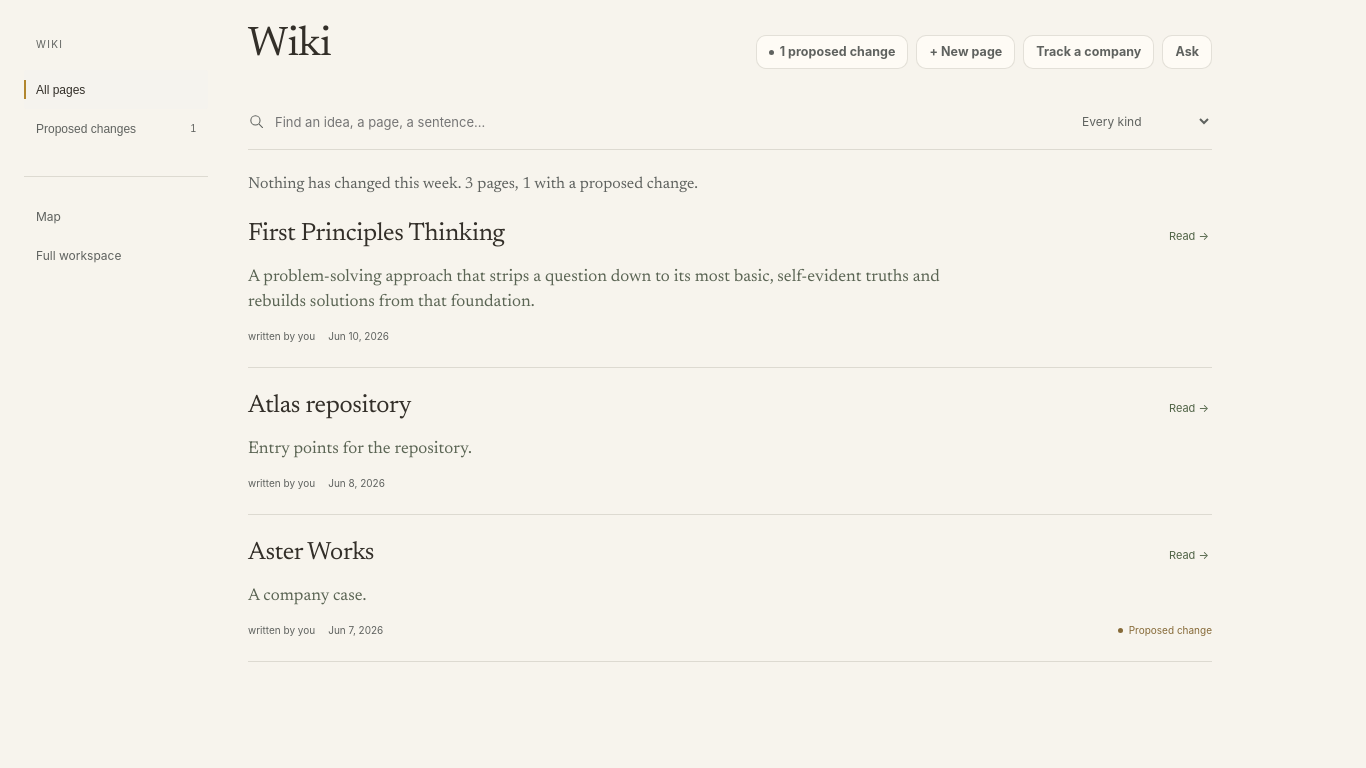
Scenario: WikiFrontPage collection › groups general wikis, repository wikis, and investment dossiers without presenting proposals as accepted knowledge
Expected: the link "Atlas repository" is shown, [248, 392, 411, 422]
Expected: the link "Proposed change" is shown, [1118, 622, 1212, 638]
Type "UNIQUE_CANDIDATE_PHRASE" into the search field named "Search current Wiki pages" at (672, 122), box [275, 109, 1068, 135]
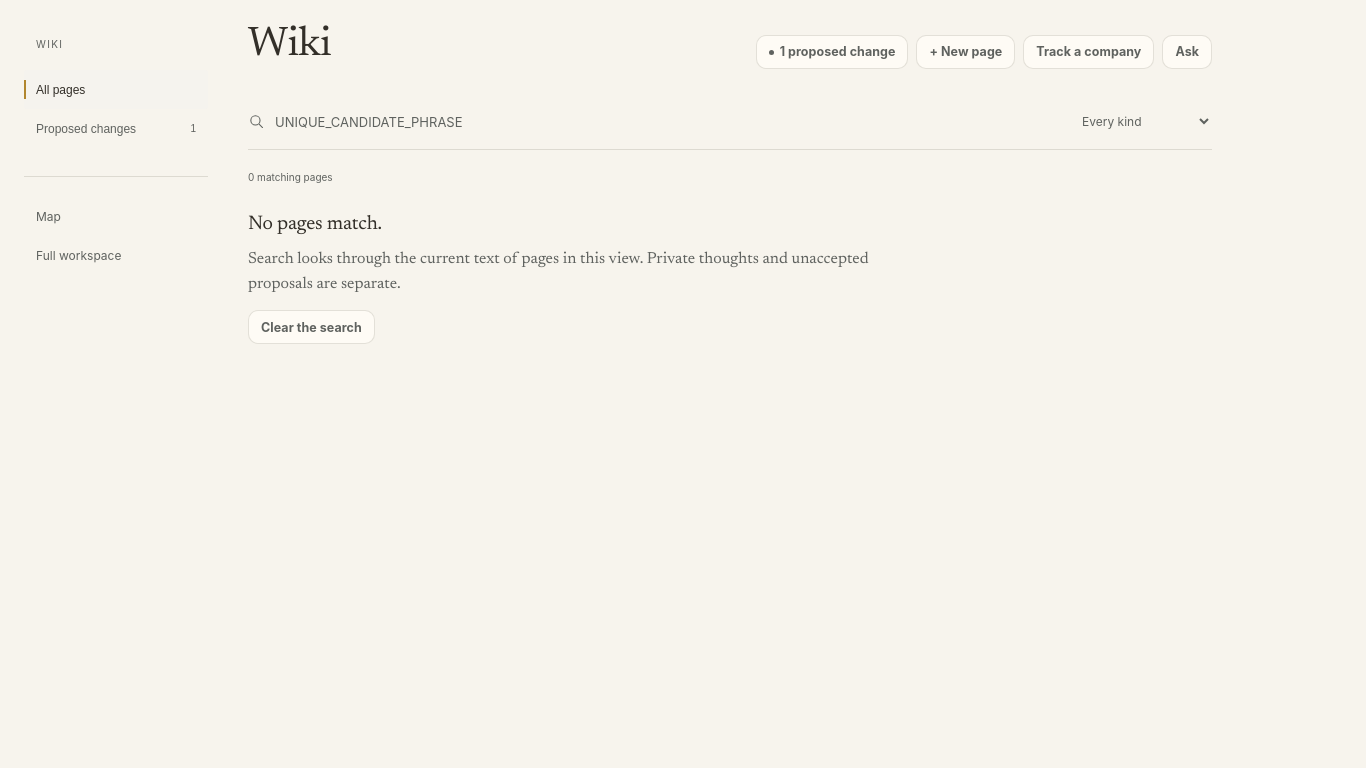
Expected: the heading "No pages match." is shown, [248, 212, 382, 237]
